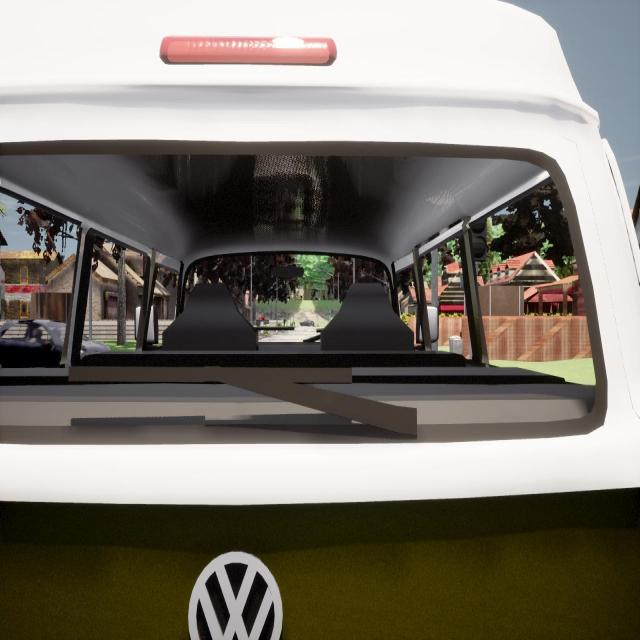Pedestrian: (283, 316, 286, 326)
Vehicle: (0, 0, 638, 640), (1, 321, 110, 362), (300, 319, 316, 328)
traffic_light: (469, 216, 488, 261)
